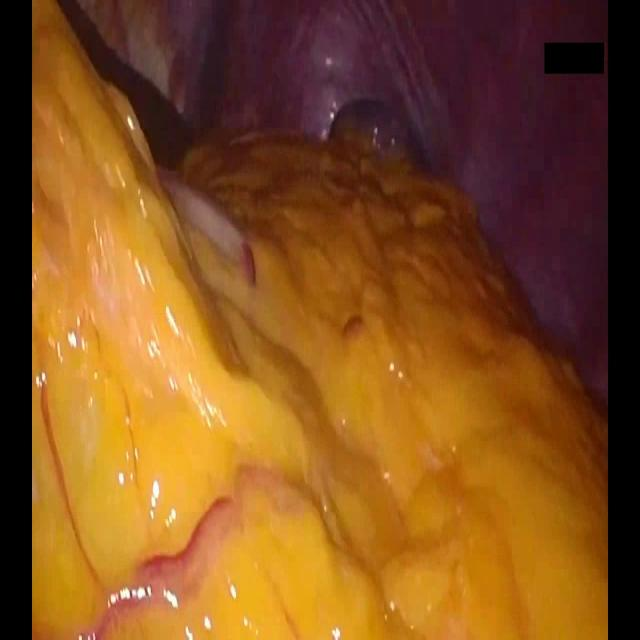surgical-area: (32, 0, 608, 639)
